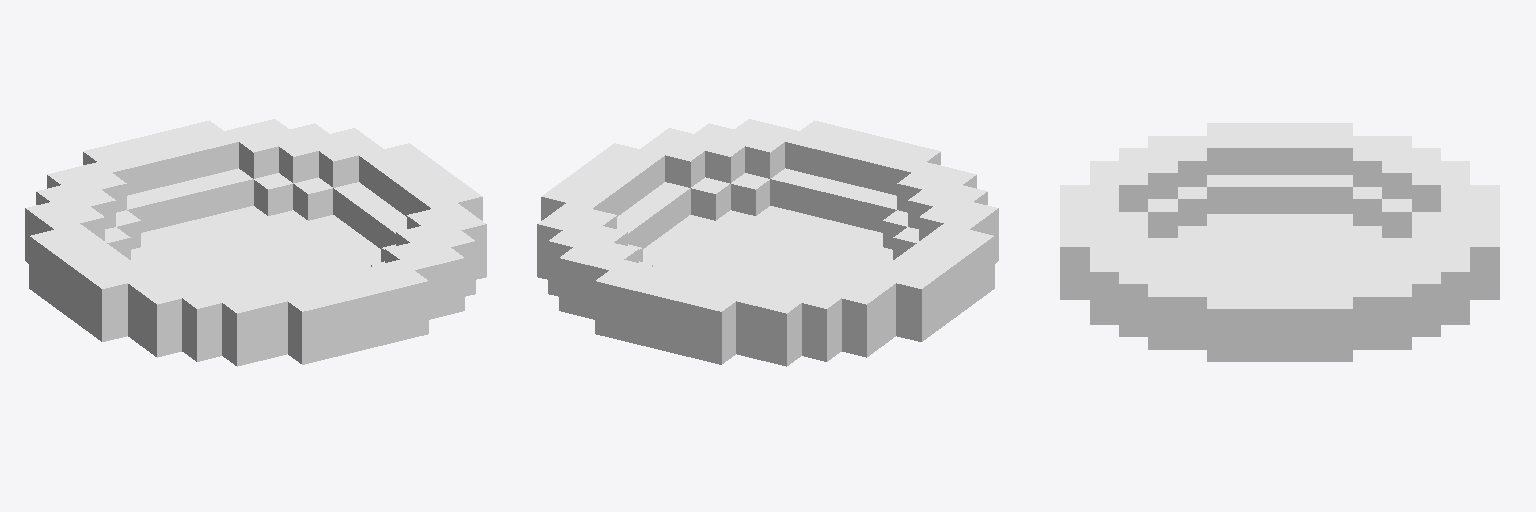
File: Assiette1(Factory-New).obj
The picture shows the model from 3 angles: view 1: azimuth 30°, elevation 25°; view 2: azimuth 150°, elevation 25°; view 3: azimuth 270°, elevation 25°; orthographic projection.
Visible parts, largest first — view 1: object 1; view 2: object 1; view 3: object 1.
Boxes of the visible parts, x1=… form: object 1: x1=25, y1=119, x2=486, y2=366; object 1: x1=537, y1=119, x2=998, y2=366; object 1: x1=1060, y1=123, x2=1499, y2=361.
Bounding box in the file's own units: 1.5 × 0.3 × 1.5.